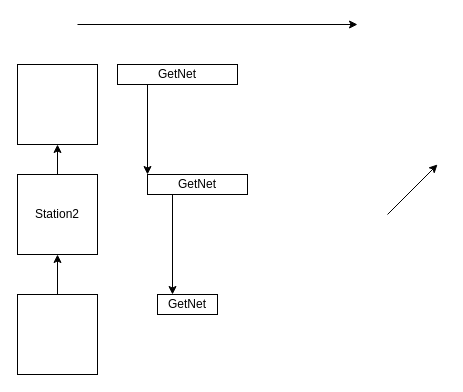
Image size: 463x392. Some labels were removed from this diagram. The box of each missing label's shape, as (x1, y1, x2, y2) in pixels:
Station1: (16, 64, 98, 144)
Station3: (16, 294, 98, 374)
